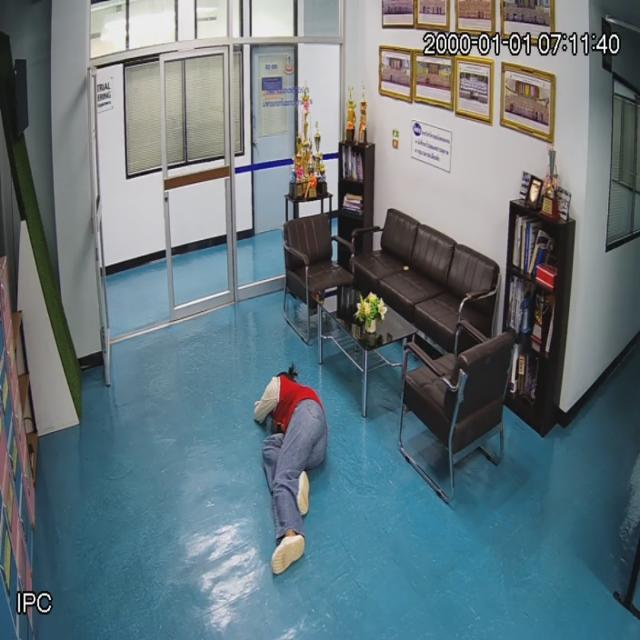fall: (256, 372, 328, 570)
